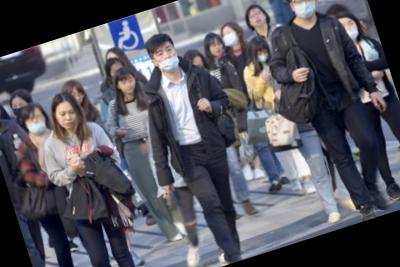mask_weared_incorrect: (153, 44, 183, 76), (22, 109, 52, 140), (339, 17, 363, 43)
with_mask: (219, 27, 243, 51), (9, 98, 33, 121), (256, 48, 273, 65)
without_mask: (54, 105, 82, 133), (247, 7, 270, 30), (117, 75, 139, 96), (206, 39, 227, 60), (68, 89, 88, 108)
